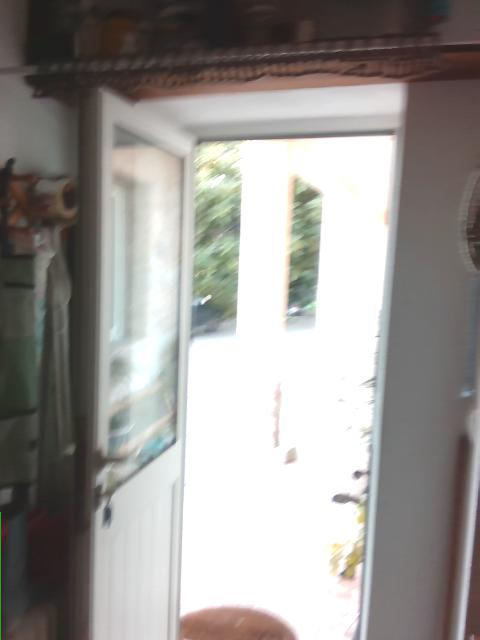open_door: (167, 125, 403, 639)
